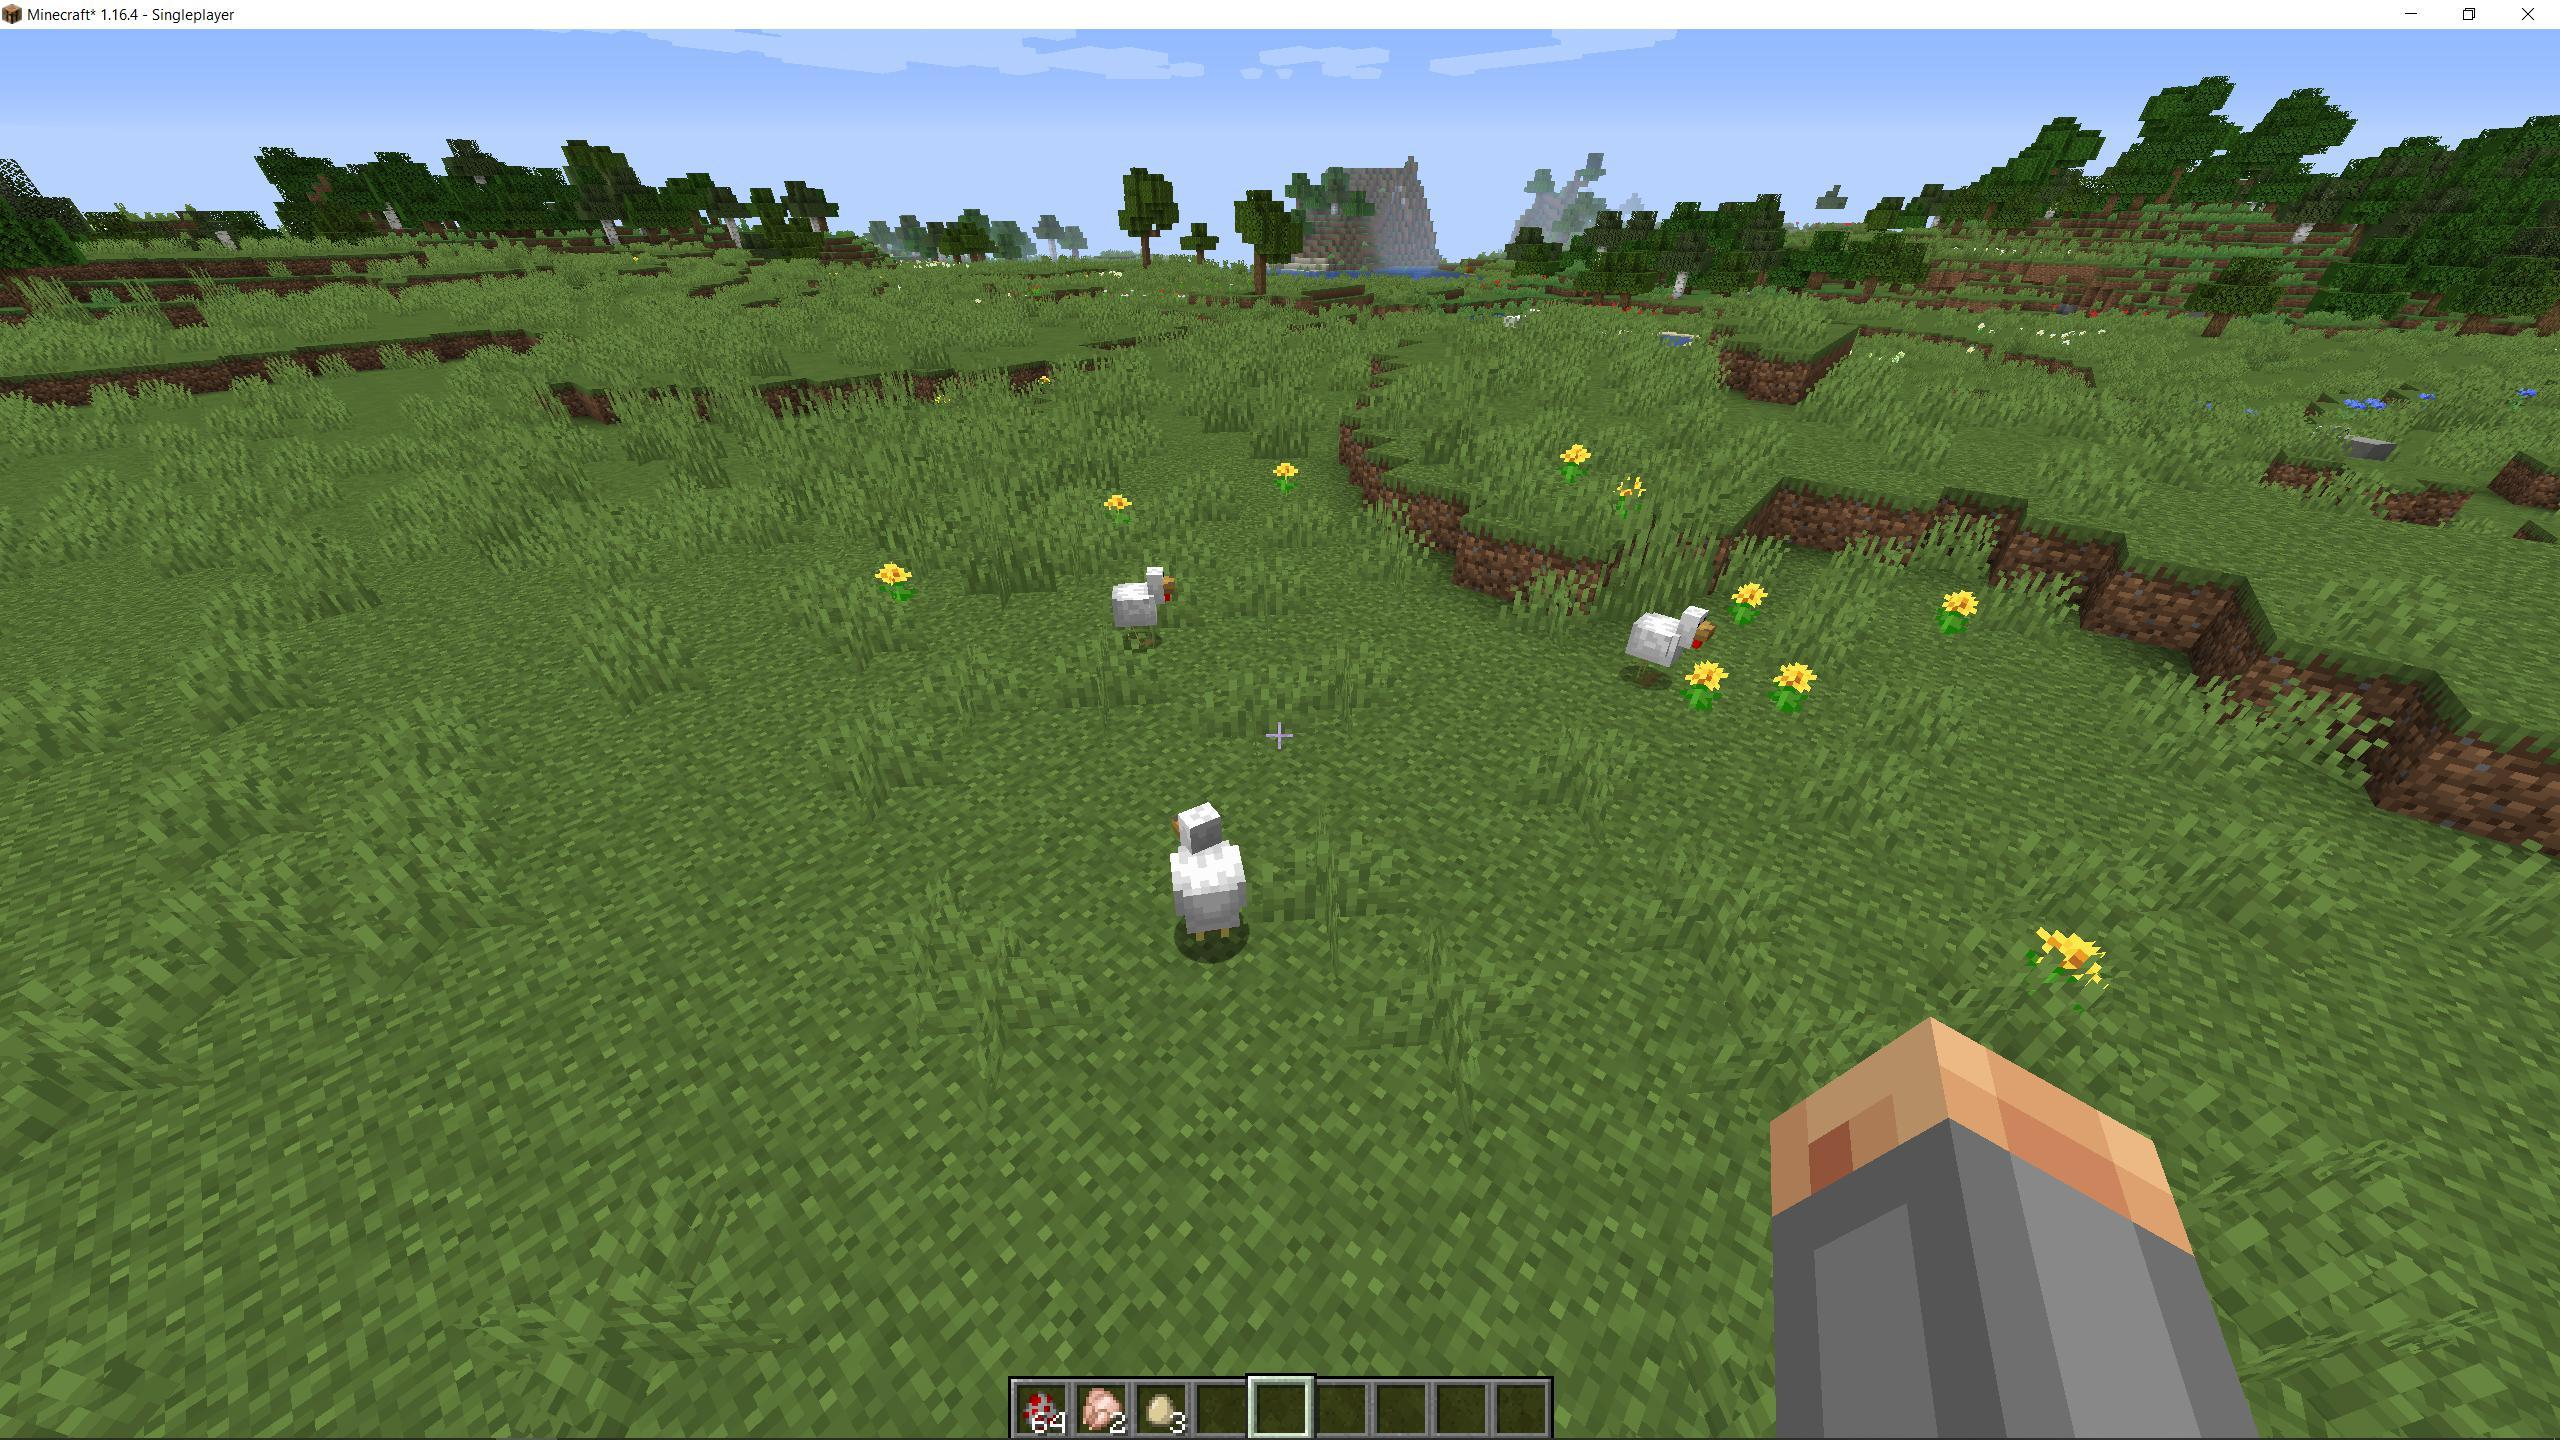chicken: (1160, 804, 1255, 956), (1621, 596, 1716, 696), (1108, 557, 1182, 651)
